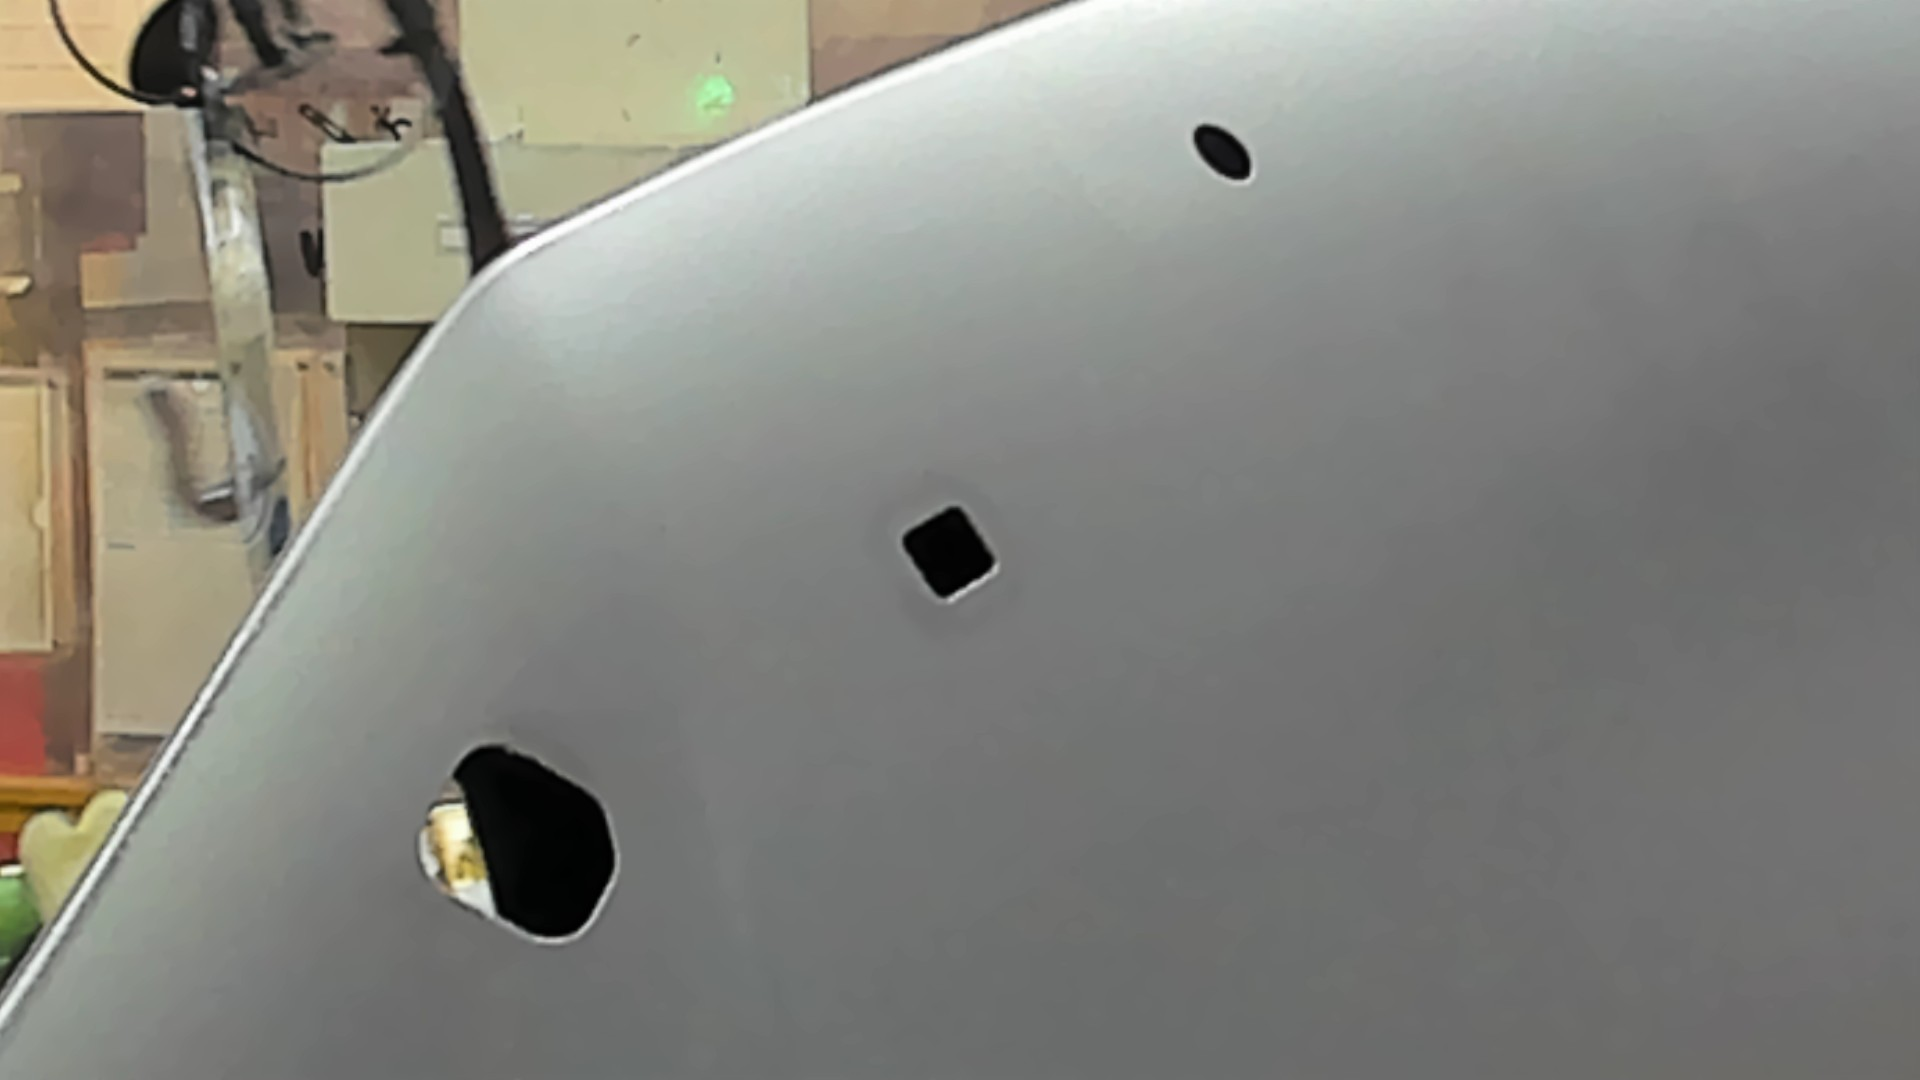chico: (1179, 108, 1266, 195)
grande: (364, 728, 637, 975)
mediano: (877, 487, 1023, 620)
